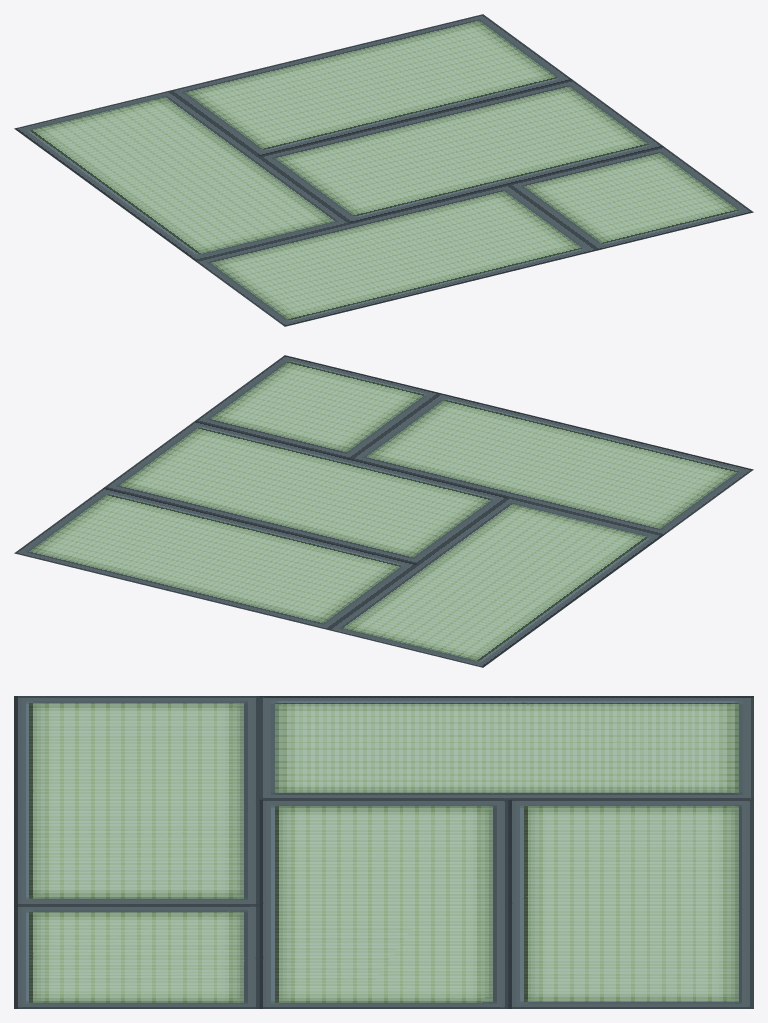
Rendered from tatami_4_5jyo_01.fbx.
3 views of the same model, one above another, from view 1: azimuth 30°, elevation 25°; view 2: azimuth 150°, elevation 25°; view 3: azimuth 270°, elevation 25° (orthographic). The views are drawn at different scales.
Visible parts, largest first — view 1: tatami_4_5jyo_01; view 2: tatami_4_5jyo_01; view 3: tatami_4_5jyo_01.
Boxes of the visible parts, x1=… form: tatami_4_5jyo_01: x1=14, y1=14, x2=753, y2=326; tatami_4_5jyo_01: x1=14, y1=355, x2=753, y2=667; tatami_4_5jyo_01: x1=14, y1=696, x2=753, y2=1008.
Size of the model in its own units: 580 by 0 by 580.
